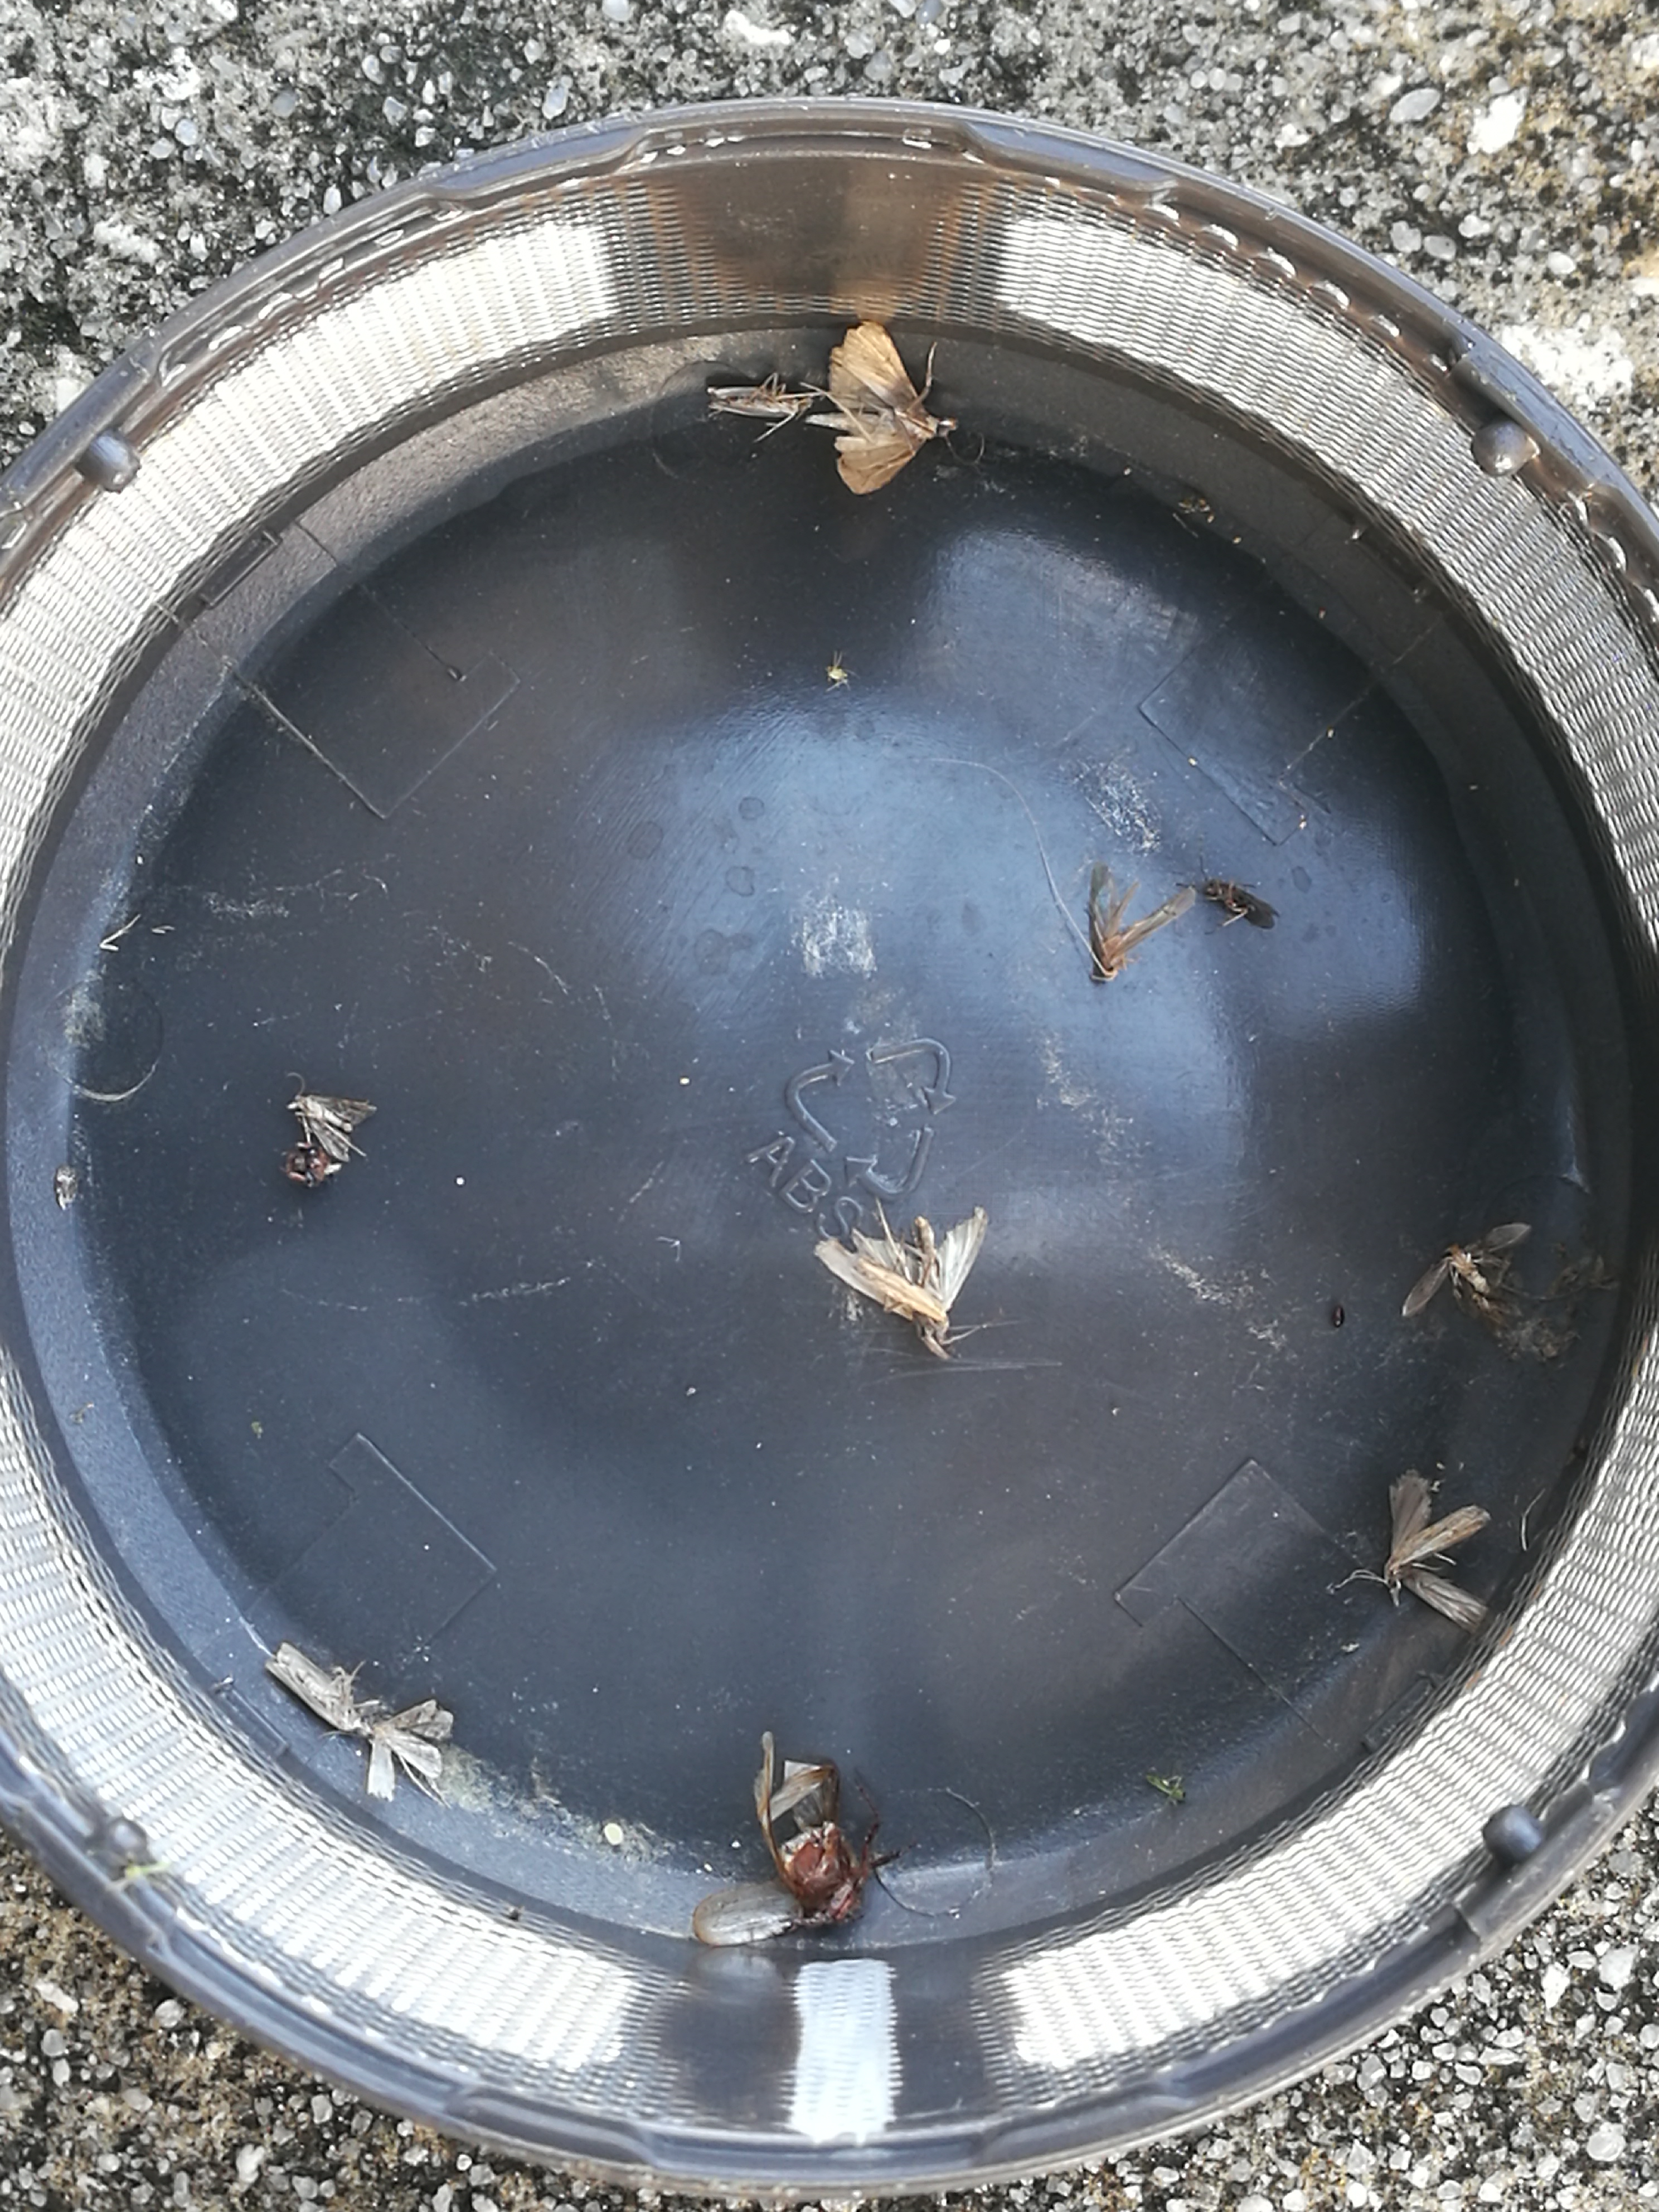beetle: (694, 1733, 864, 1947)
mosquito: (265, 1642, 362, 1733), (1202, 880, 1277, 930), (708, 385, 812, 420)
moth: (805, 322, 958, 495), (816, 1205, 986, 1339), (1384, 1468, 1490, 1632), (1087, 866, 1195, 981), (1403, 1223, 1528, 1315), (366, 1700, 455, 1801), (288, 1094, 376, 1163)
